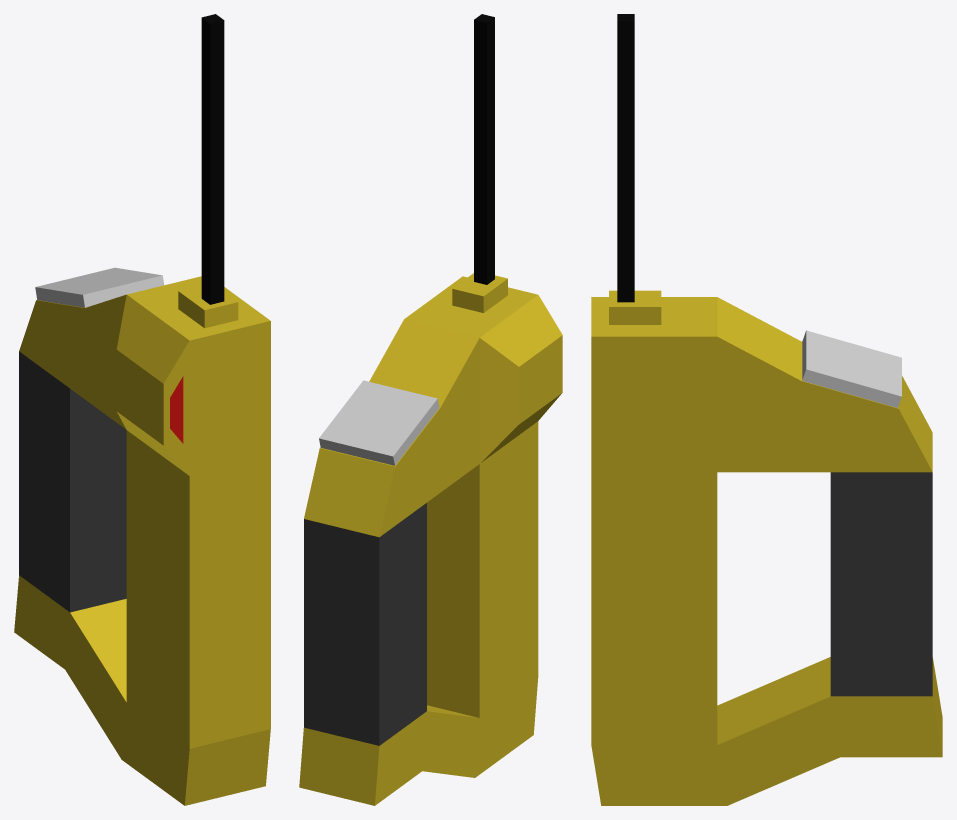
Rendered from RemoteController.fbx.
The picture shows the model from 3 angles, left to right: view 1: azimuth 30°, elevation 25°; view 2: azimuth 150°, elevation 25°; view 3: azimuth 270°, elevation 25°; orthographic projection. The views are drawn at different scales.
Visible parts, largest first — view 1: Chassis, Carapace; view 2: Chassis, Carapace; view 3: Chassis, Carapace.
Boxes of the visible parts, box(x1,y1,x2,y2) form: Chassis: box(14, 14, 270, 805); Carapace: box(35, 267, 164, 307); Chassis: box(299, 14, 562, 805); Carapace: box(319, 380, 439, 465); Chassis: box(591, 14, 942, 805); Carapace: box(802, 330, 901, 407).
Size of the model in its own units: 24.96 by 171 by 70.75.
